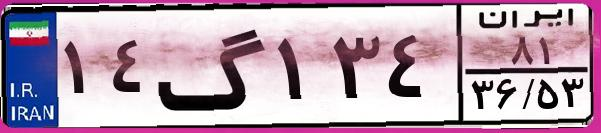1: (270, 28, 330, 110), (57, 26, 110, 100), (537, 27, 568, 80)
3: (330, 28, 385, 110), (560, 70, 590, 125), (470, 70, 495, 125)
4: (385, 28, 445, 110), (110, 28, 156, 98)
5: (535, 70, 560, 125)
6: (495, 70, 520, 125)
8: (508, 27, 537, 80)
گ: (156, 12, 270, 120)
